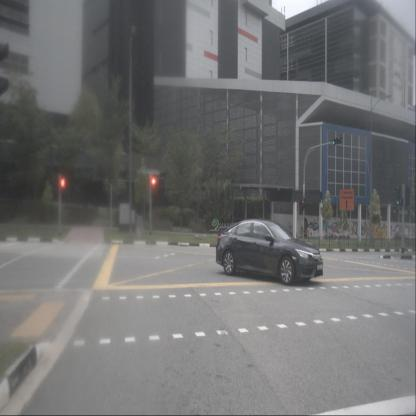vehicle-car: (216, 218, 323, 286)
